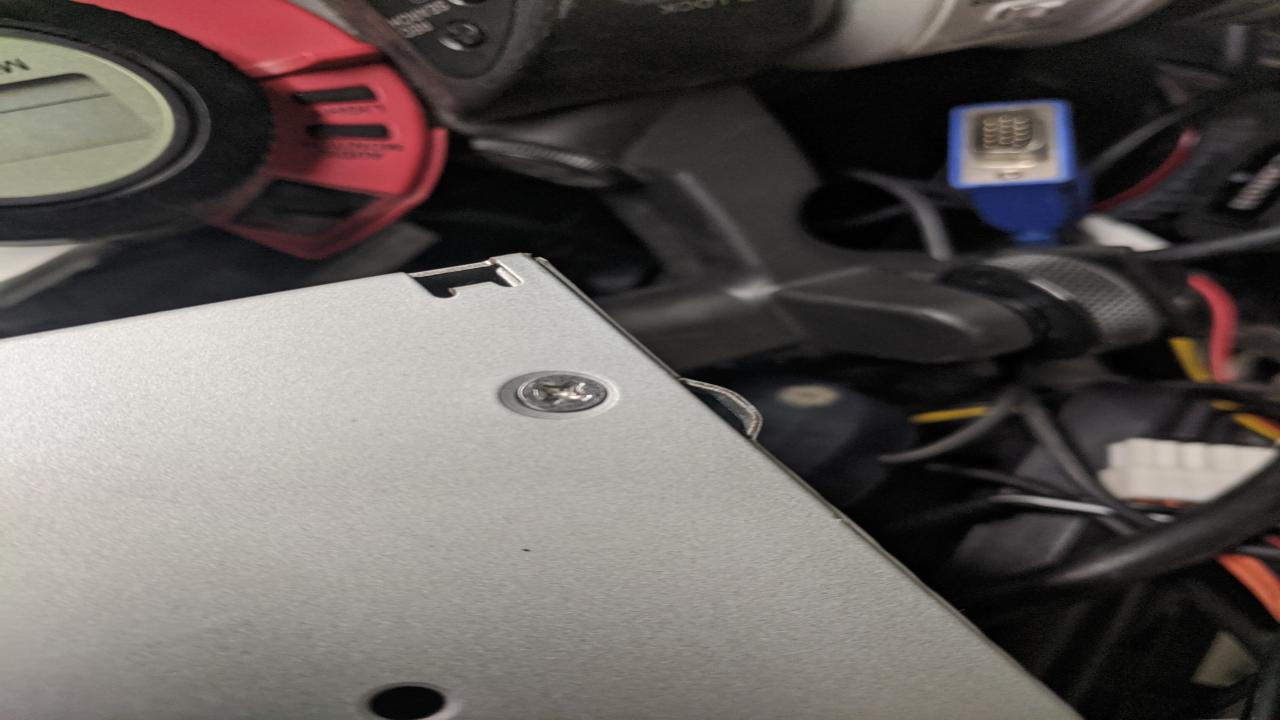CRS: (518, 373, 606, 412)
